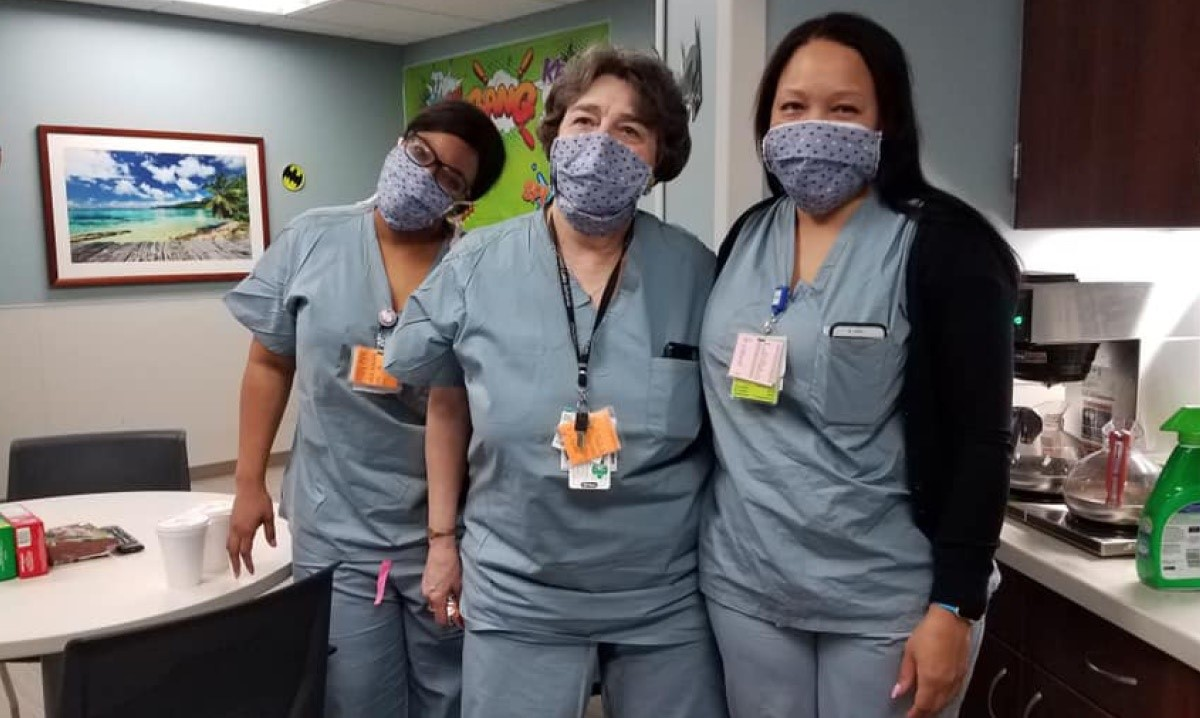face_with_mask: (758, 25, 901, 226), (547, 62, 681, 240), (382, 107, 498, 231)
